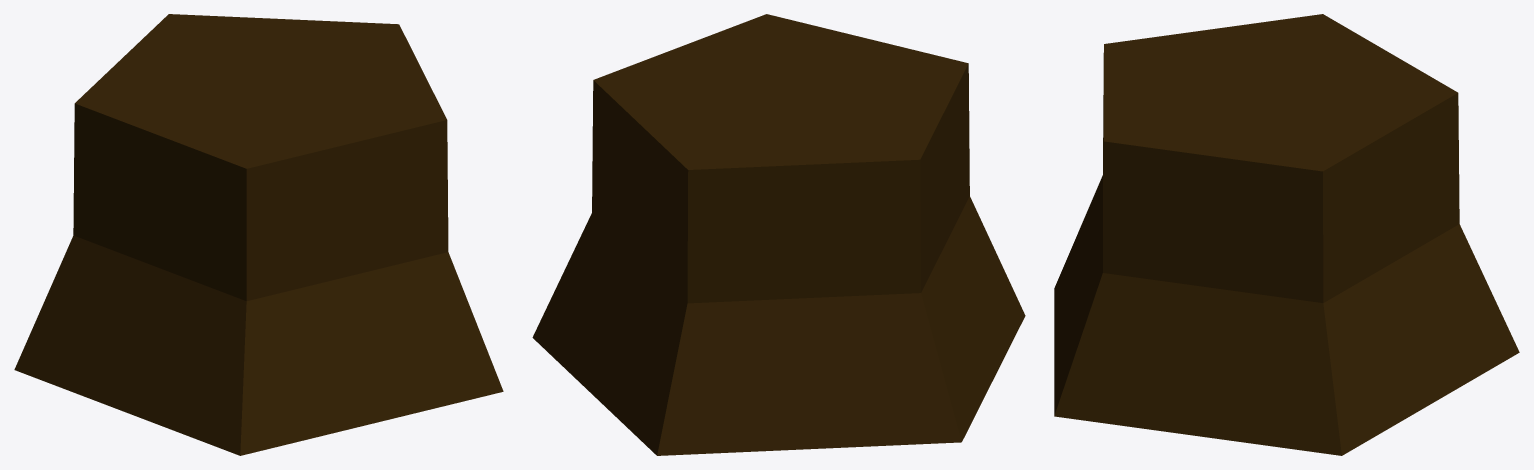
The model's file is TreeStump_1.fbx.
3 views of the same model, side by side, from view 1: azimuth 30°, elevation 25°; view 2: azimuth 150°, elevation 25°; view 3: azimuth 270°, elevation 25° (orthographic).
Visible parts, largest first — view 1: TreeStump1; view 2: TreeStump1; view 3: TreeStump1.
Part boxes in pixels (x1,y1,x2,y2): TreeStump1: (14, 14, 503, 455); TreeStump1: (532, 14, 1025, 455); TreeStump1: (1054, 14, 1519, 455).
Bounding box in the file's own units: 168 × 159 × 98.21.
